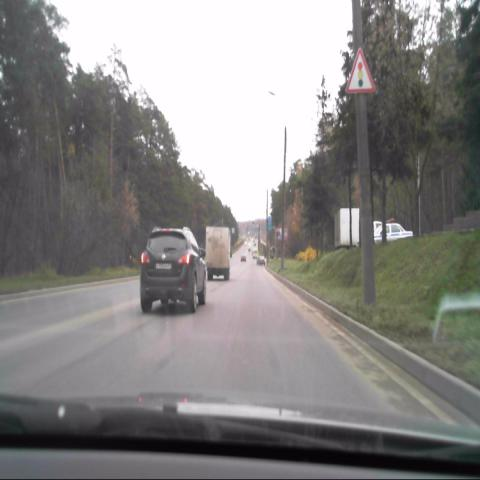1_8: (343, 44, 375, 95)
